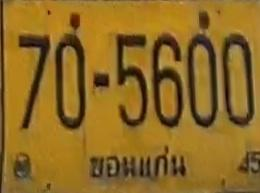0: (220, 33, 254, 126), (186, 33, 218, 128), (54, 34, 86, 129)
5: (116, 34, 148, 126)
6: (151, 33, 183, 128)
7: (18, 34, 50, 129)
KKN: (80, 141, 191, 184)
